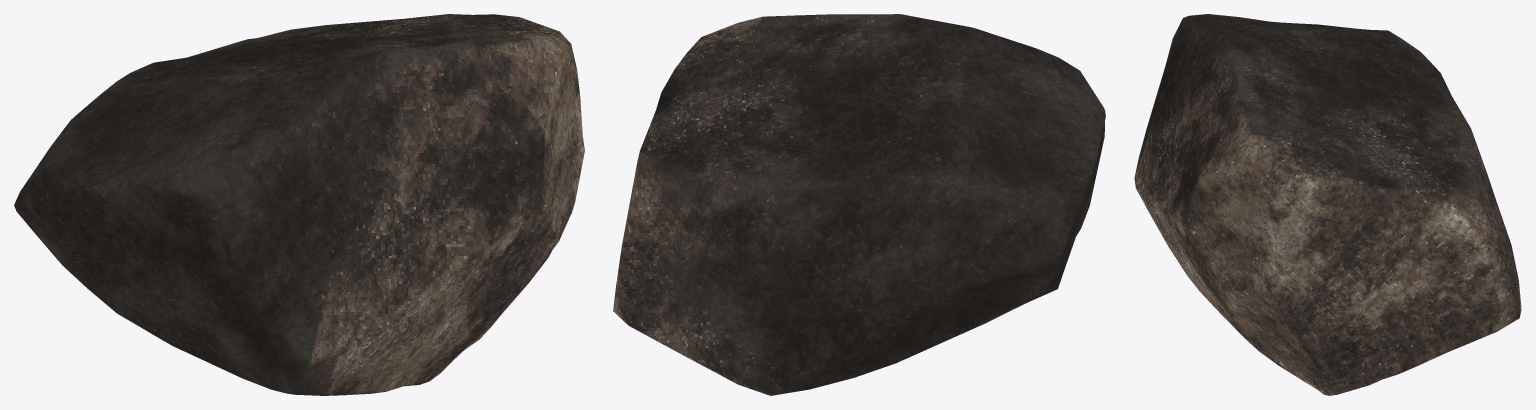
Rendered from SM_RP_Rock_8m_4.glb.
3 renders of one model, left to right at view 1: azimuth 30°, elevation 25°; view 2: azimuth 150°, elevation 25°; view 3: azimuth 270°, elevation 25°, orthographic. The views are drawn at different scales.
Parts seen in each view (by area): view 1: SM_RP_Rock_8m_4; view 2: SM_RP_Rock_8m_4; view 3: SM_RP_Rock_8m_4.
Part boxes in pixels (<box>): SM_RP_Rock_8m_4: <box>14,14,584,395</box>; SM_RP_Rock_8m_4: <box>613,14,1105,395</box>; SM_RP_Rock_8m_4: <box>1134,14,1521,395</box>.
Bounding box in the file's own units: 12.85 × 8.97 × 10.8.
1 material, 1 textured.
